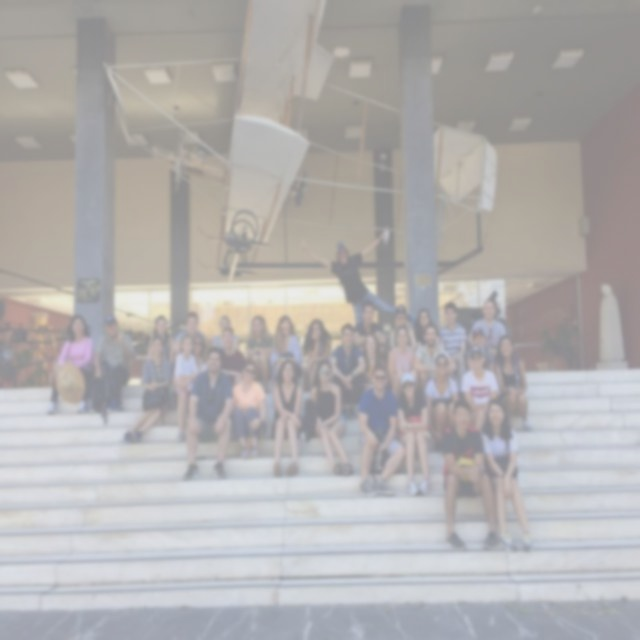pessoa: (299, 226, 419, 326), (440, 396, 500, 553), (480, 396, 534, 553), (180, 344, 236, 482), (356, 362, 406, 498), (120, 332, 174, 446), (46, 313, 98, 416), (310, 358, 354, 478), (393, 371, 434, 497), (86, 312, 136, 414), (268, 358, 304, 478), (492, 334, 534, 436), (171, 332, 209, 443), (228, 358, 268, 461), (412, 322, 458, 410), (329, 322, 367, 422), (424, 353, 460, 453), (462, 343, 498, 431), (437, 300, 468, 392), (242, 314, 276, 396), (467, 297, 508, 362), (387, 326, 422, 400), (269, 313, 304, 384), (351, 298, 388, 357), (302, 318, 332, 390), (173, 332, 210, 389), (214, 325, 247, 387), (0, 296, 18, 390), (362, 332, 390, 392), (171, 310, 208, 355), (146, 314, 176, 366), (466, 326, 496, 374), (389, 303, 417, 352), (414, 306, 441, 346), (212, 314, 241, 350), (484, 287, 500, 310)
